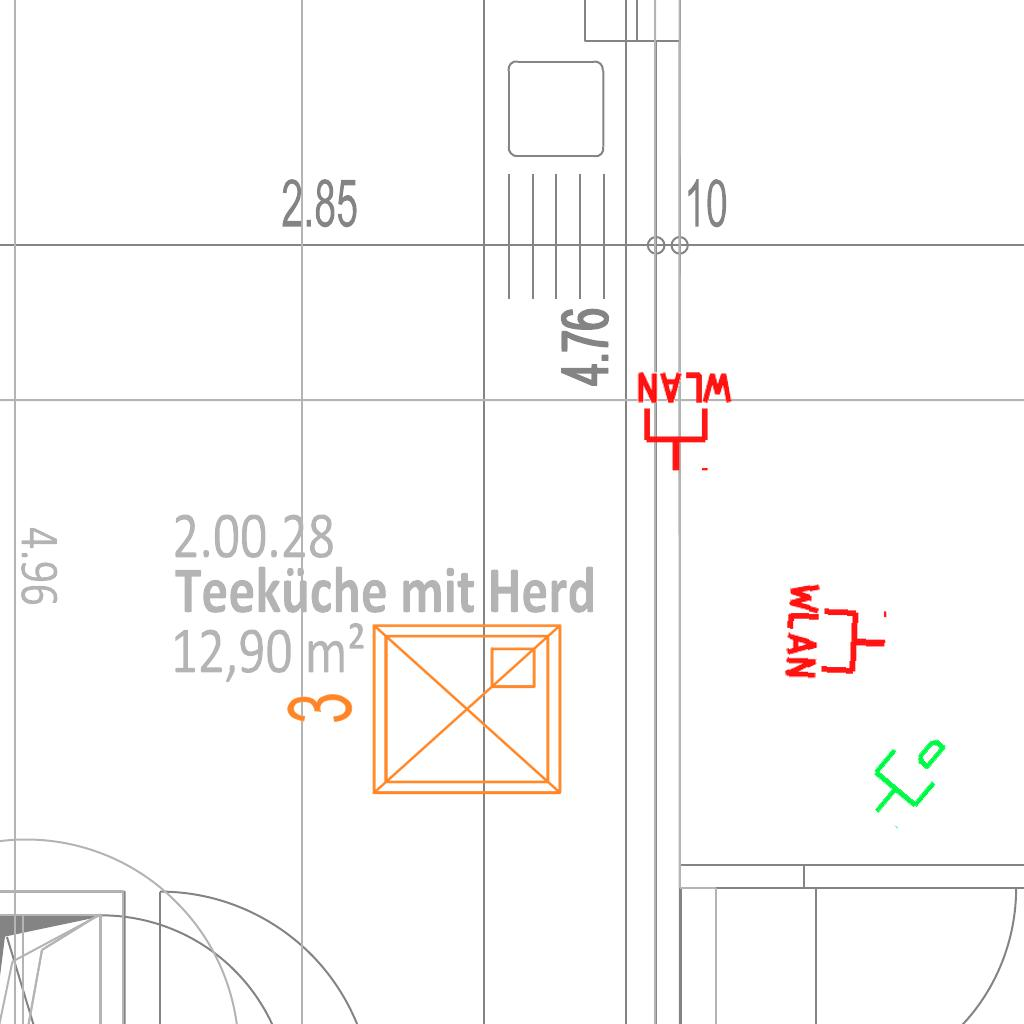Datenanschluss_einfach: (846, 713, 965, 835)
Einbaudownlights_LED_Konferenzraeume: (276, 609, 576, 817)
WLAN: (782, 577, 893, 687), (633, 370, 737, 475)
